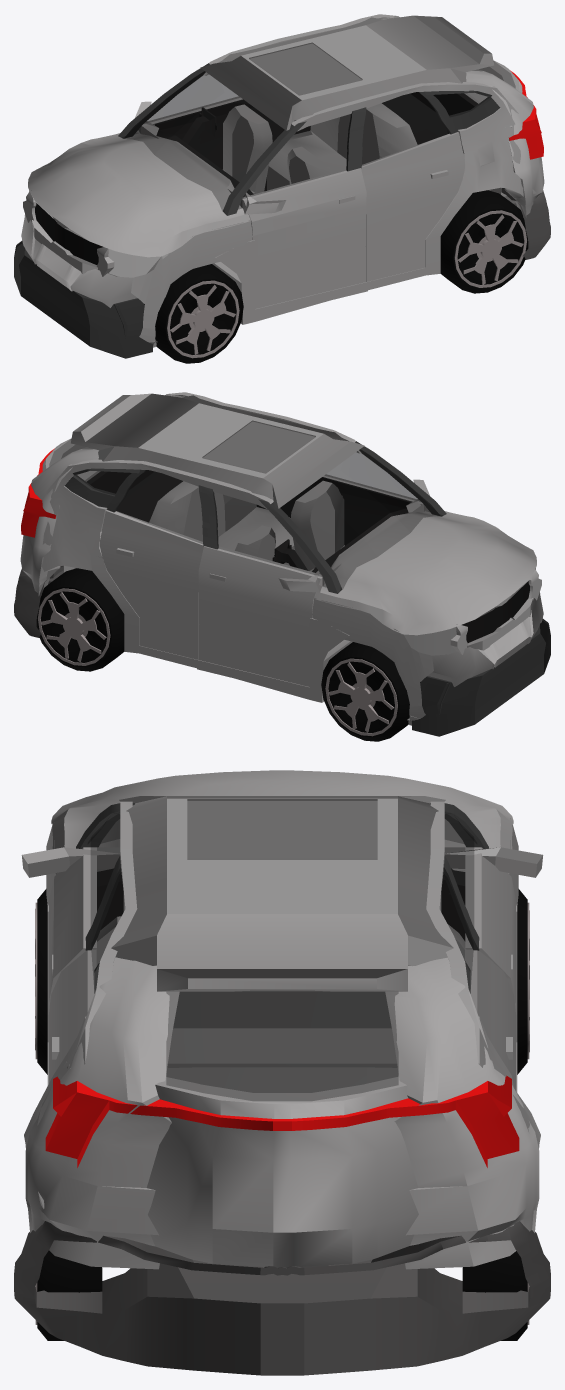
The model's file is new_kia_seltos_2026.glb.
3 renders of one model, top to bottom at view 1: azimuth 30°, elevation 25°; view 2: azimuth 150°, elevation 25°; view 3: azimuth 270°, elevation 25°, orthographic. The views are drawn at different scales.
Visible parts, largest first — view 1: Object_8, Object_9, Object_11, Object_10, Object_6, Object_12, Object_7, Object_3, Object_4, Object_2; view 2: Object_8, Object_9, Object_11, Object_10, Object_6, Object_12, Object_7, Object_3, Object_4, Object_2; view 3: Object_8, Object_7, Object_9, Object_2, Object_10, Object_11, Object_6, Object_12.
Boxes of the visible parts, x1,y1,x2,y2 form: Object_8: (21,14,544,347); Object_9: (122,42,515,212); Object_11: (14,63,500,358); Object_10: (144,190,528,363); Object_6: (155,92,477,195); Object_12: (167,210,526,358); Object_7: (488,188,550,259); Object_3: (35,203,102,264); Object_4: (29,190,168,277); Object_2: (509,70,543,159); Object_8: (20,392,543,725); Object_9: (49,420,442,590); Object_11: (64,440,550,736); Object_10: (36,568,420,741); Object_6: (87,470,409,572); Object_12: (38,588,397,736); Object_7: (14,566,76,637); Object_3: (462,581,529,642); Object_4: (400,568,535,655); Object_2: (21,448,55,537); Object_8: (21,770,543,1269); Object_7: (14,1221,550,1375); Object_9: (88,799,476,1100); Object_2: (45,1075,519,1167); Object_10: (37,889,527,1340); Object_11: (76,803,488,993); Object_6: (67,868,465,1067); Object_12: (35,902,529,1324).
Size of the model in its own units: 5.35 by 2.28 by 2.82.
